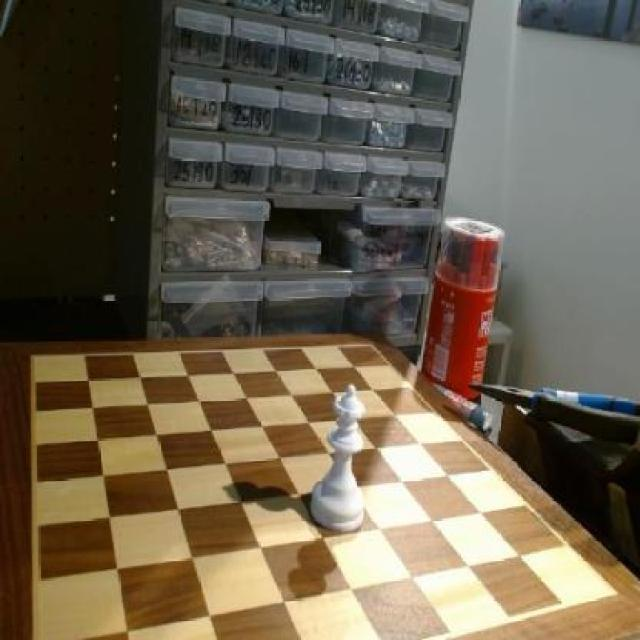white-pawn: (311, 382, 377, 534)
